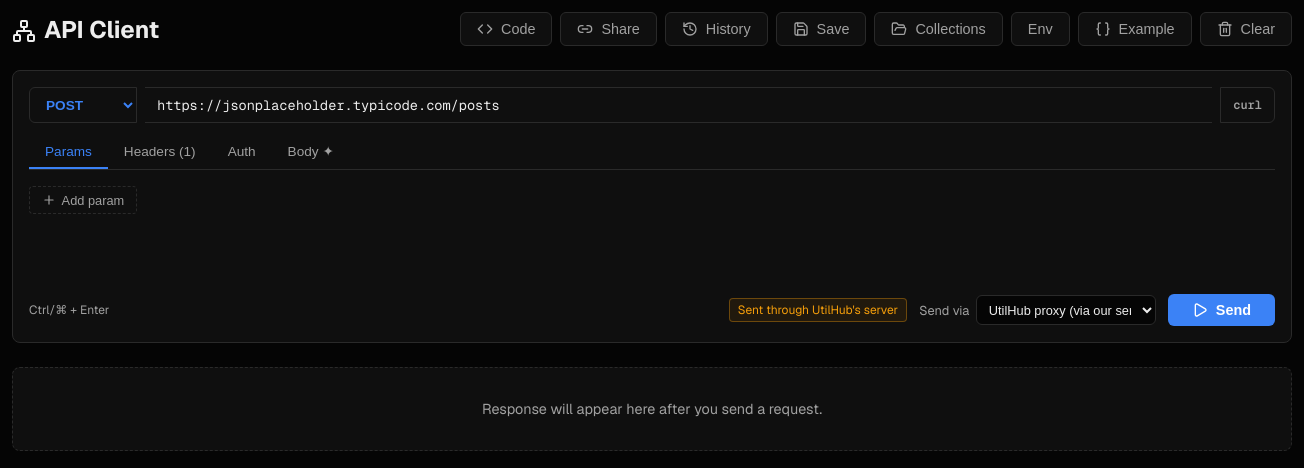
Scenario: CurlTester › auto-imports cURL when entered into URL bar via change
The image size is (1304, 468).
Replace the text in the field named "Request URL" with "curl https://auto.import.test/path -H 'X-Custom: 1'" at {"x": 679, "y": 105}, box 145,87 -> 1212,123
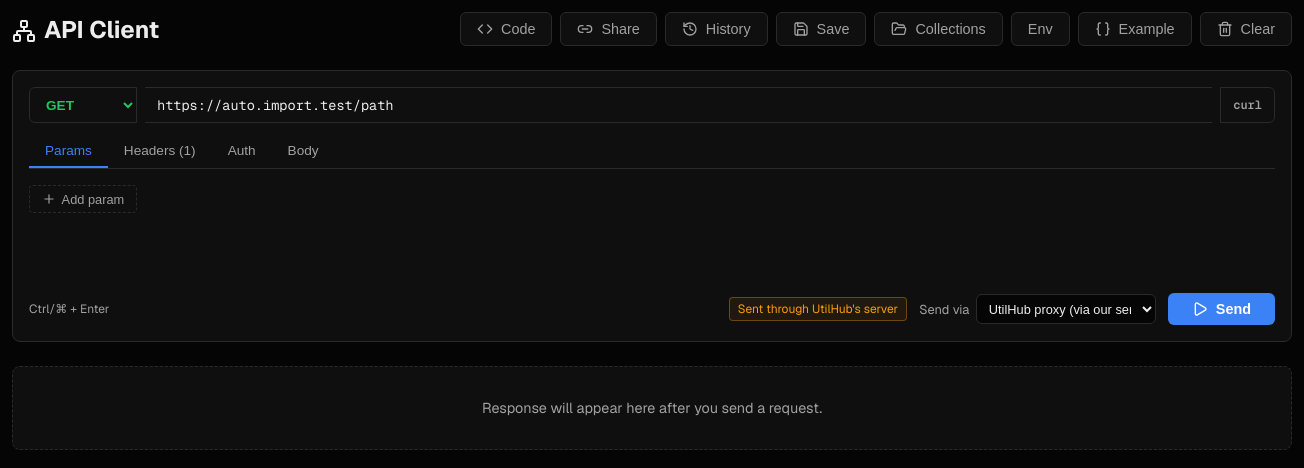
Expected: the field showing "auto.import.test" is shown, 145,87 -> 1212,123
